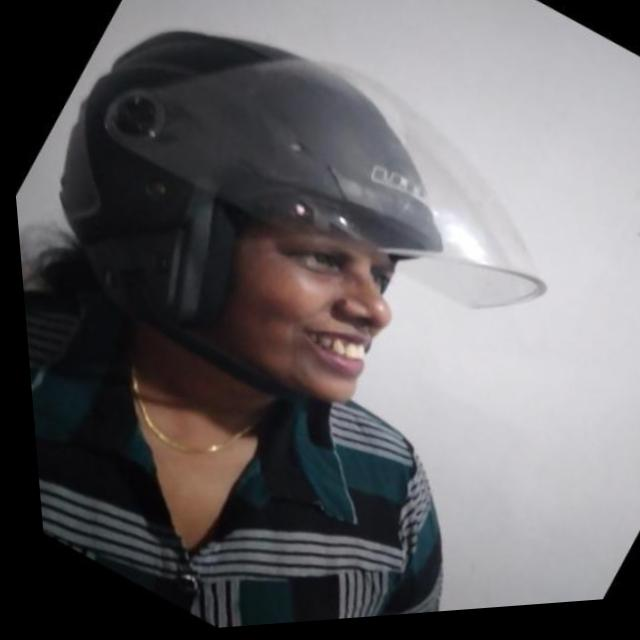WITH_HELMET: (0, 0, 616, 524)
